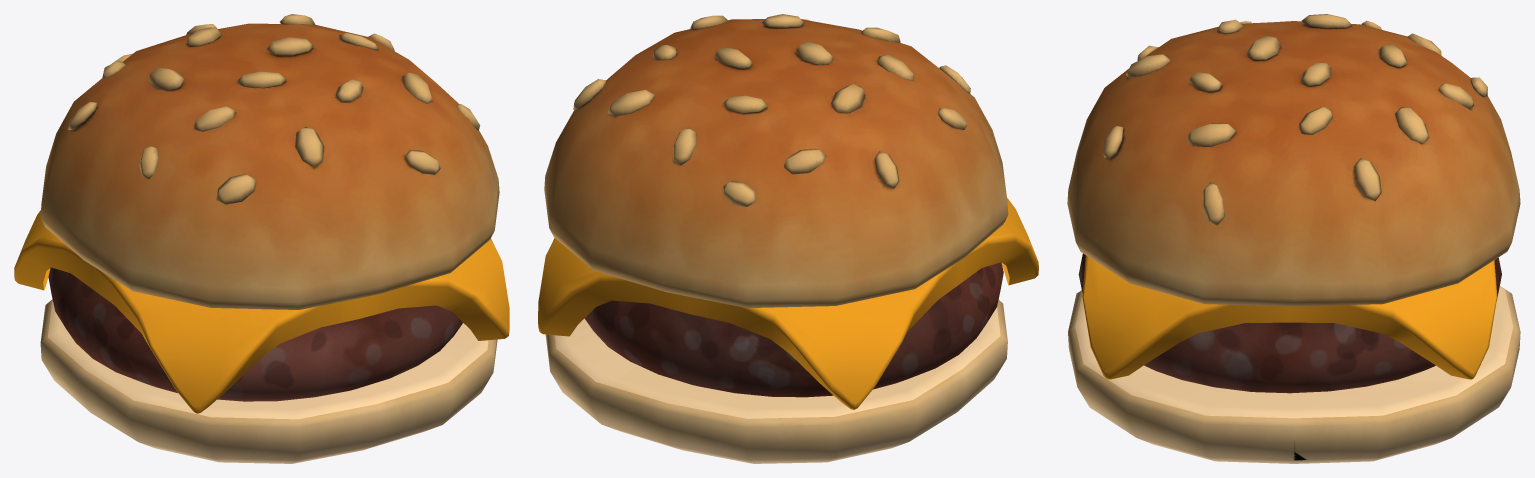
File: m_recipe_cheeseburger_01.fbx
3 renders of one model, left to right at view 1: azimuth 30°, elevation 25°; view 2: azimuth 150°, elevation 25°; view 3: azimuth 270°, elevation 25°, orthographic.
Parts seen in each view (by area): view 1: m_recipe_cheeseburger_01_1, m_recipe_cheeseburger_01_2, m_recipe_cheeseburger_01_0; view 2: m_recipe_cheeseburger_01_1, m_recipe_cheeseburger_01_2, m_recipe_cheeseburger_01_0; view 3: m_recipe_cheeseburger_01_1, m_recipe_cheeseburger_01_2, m_recipe_cheeseburger_01_0.
Part boxes in pixels (<box>): m_recipe_cheeseburger_01_1: <box>40,14,499,463</box>; m_recipe_cheeseburger_01_2: <box>14,210,509,413</box>; m_recipe_cheeseburger_01_0: <box>48,267,462,401</box>; m_recipe_cheeseburger_01_1: <box>544,14,1008,463</box>; m_recipe_cheeseburger_01_2: <box>538,198,1038,409</box>; m_recipe_cheeseburger_01_0: <box>584,262,1003,397</box>; m_recipe_cheeseburger_01_1: <box>1067,14,1520,463</box>; m_recipe_cheeseburger_01_2: <box>1082,255,1497,379</box>; m_recipe_cheeseburger_01_0: <box>1078,253,1501,393</box>.
Bounding box in the file's own units: 0.6189 × 0.5061 × 0.6244.
